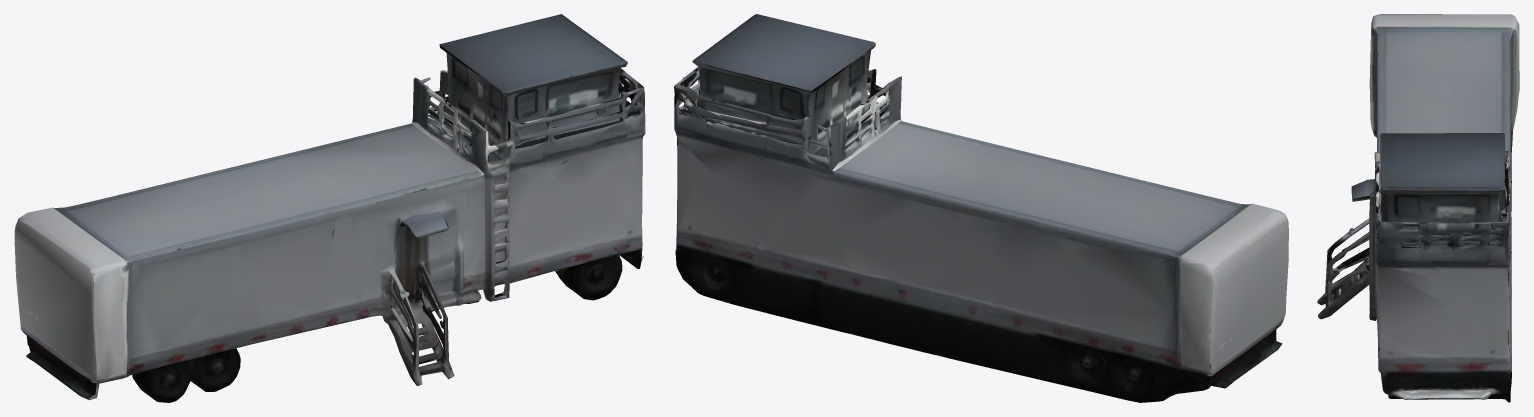
File: ultra_controlvan3d.glb
3 views of the same model, side by side, from view 1: azimuth 30°, elevation 25°; view 2: azimuth 150°, elevation 25°; view 3: azimuth 270°, elevation 25° (orthographic). The views are drawn at different scales.
Parts seen in each view (by area): view 1: tmplpywmp0p.ply; view 2: tmplpywmp0p.ply; view 3: tmplpywmp0p.ply.
Boxes of the visible parts, x1,y1,x2,y2 form: tmplpywmp0p.ply: [14, 14, 645, 402]; tmplpywmp0p.ply: [674, 14, 1288, 402]; tmplpywmp0p.ply: [1317, 14, 1519, 402].
Size of the model in its own units: 1.96 by 0.7941 by 0.6451.
Materials: 1 (1 with a texture image).
